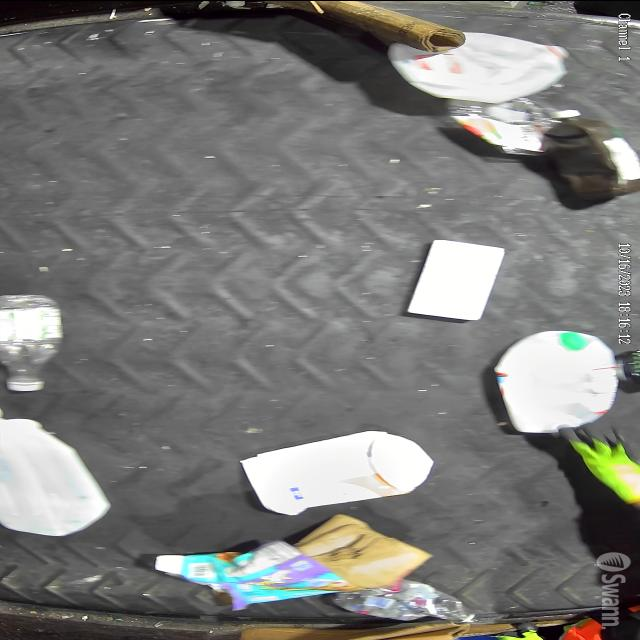milk_jug: (240, 430, 436, 514), (0, 417, 111, 536), (388, 32, 572, 102), (493, 330, 618, 430)
plastic_bottle: (332, 579, 482, 623), (0, 292, 64, 391)
